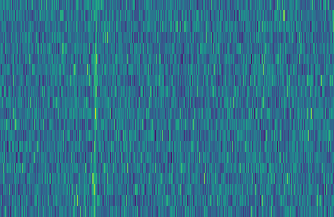signal: (87, 0, 98, 217)
